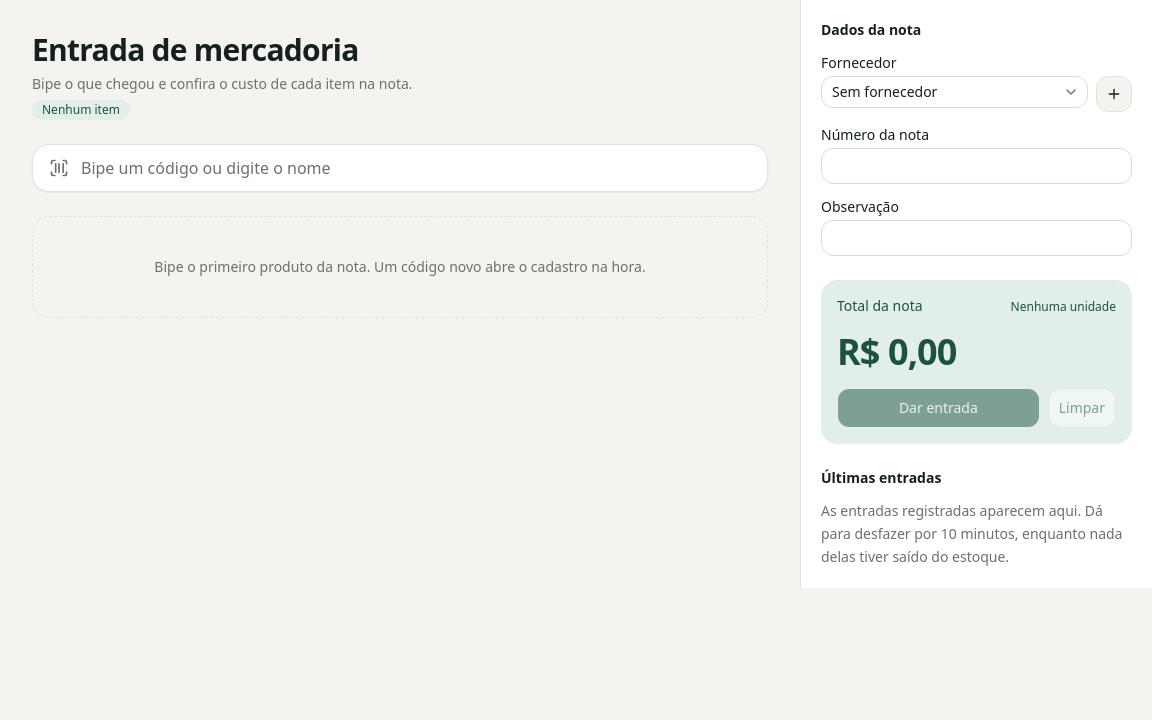
ReceivingScreen › registers a supplier without leaving the delivery and picks it
The image size is (1152, 720).
Click the button named "Novo fornecedor" at (1114,94), box [1096,76,1132,112]
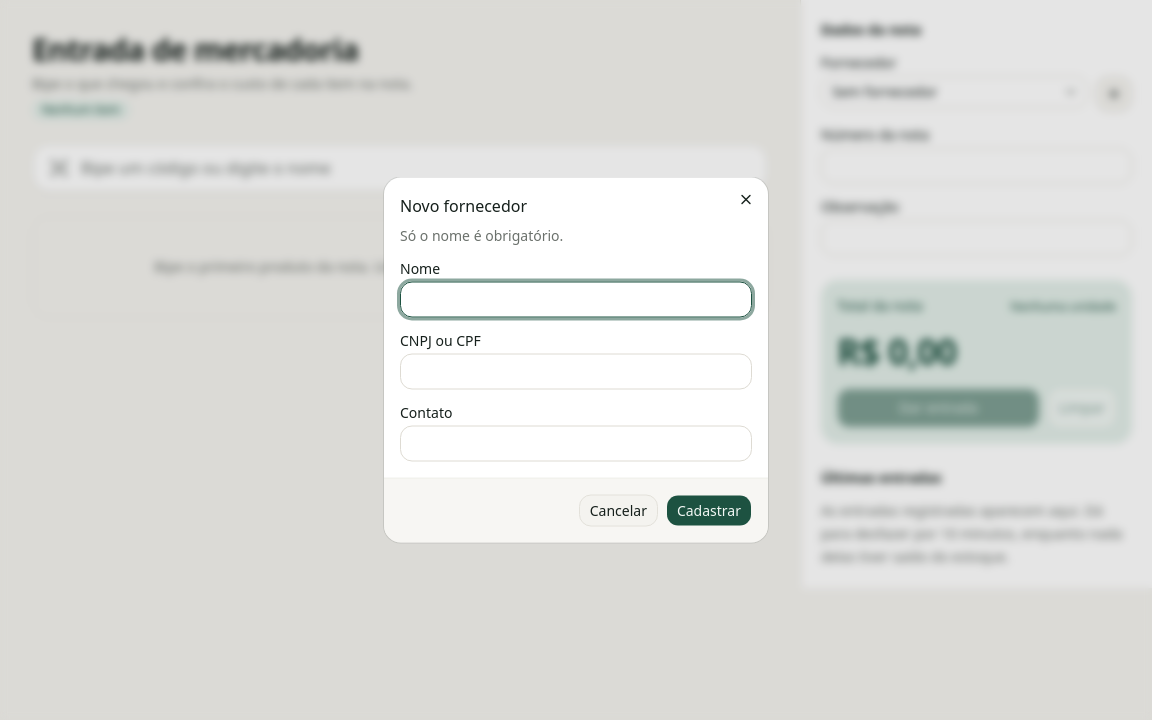
Type "Distribuidora Sol" into the field labelled "Nome" at (576,300), box [400,282,752,318]
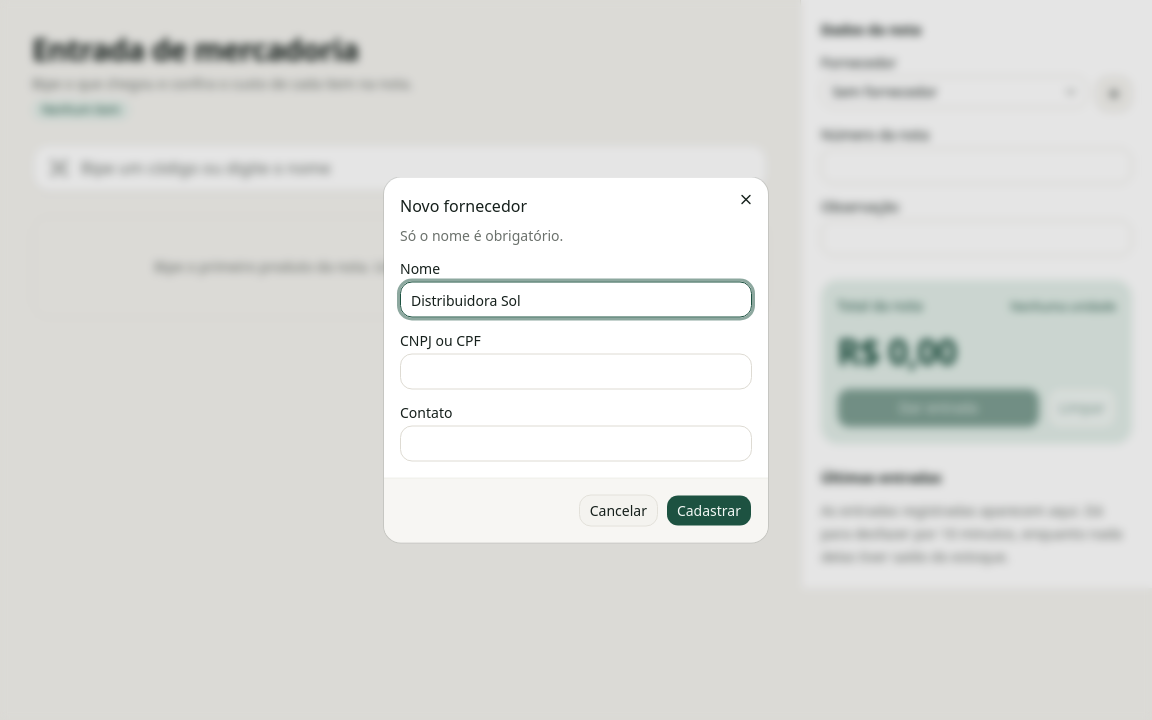
Type "12.345.678/0001-90" into the field labelled "CNPJ ou CPF" at (576,372), box [400,354,752,390]
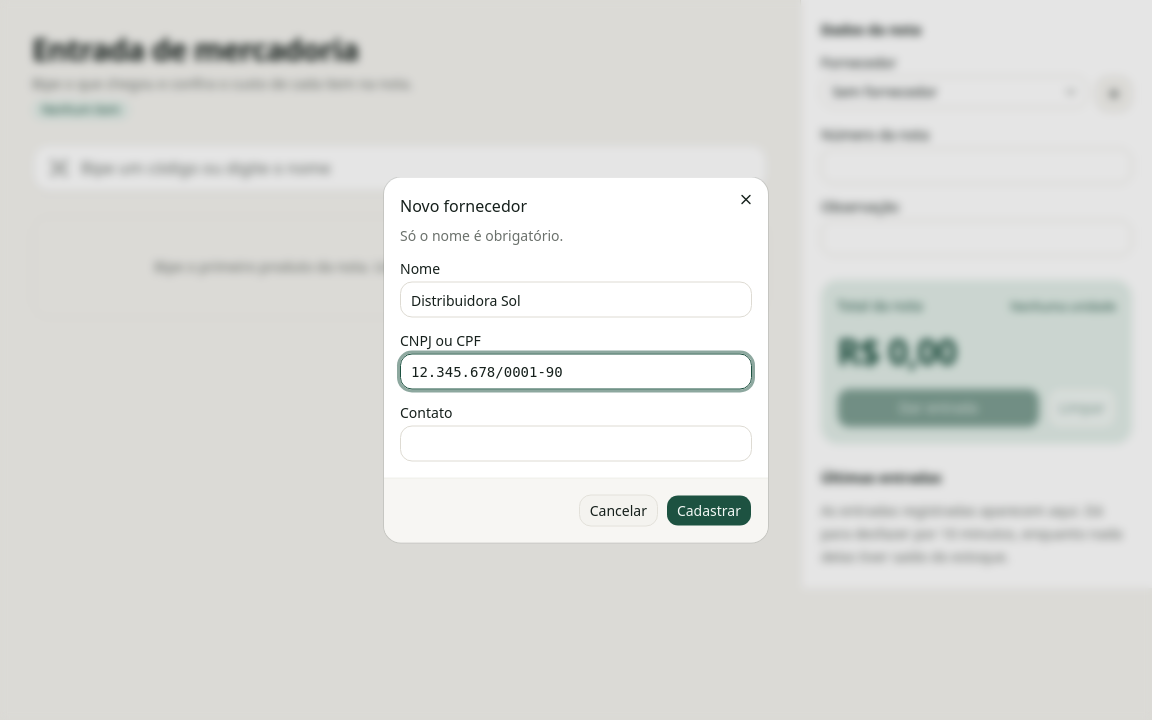
Click the button "Cadastrar" at (709,510), box [666,494,752,526]
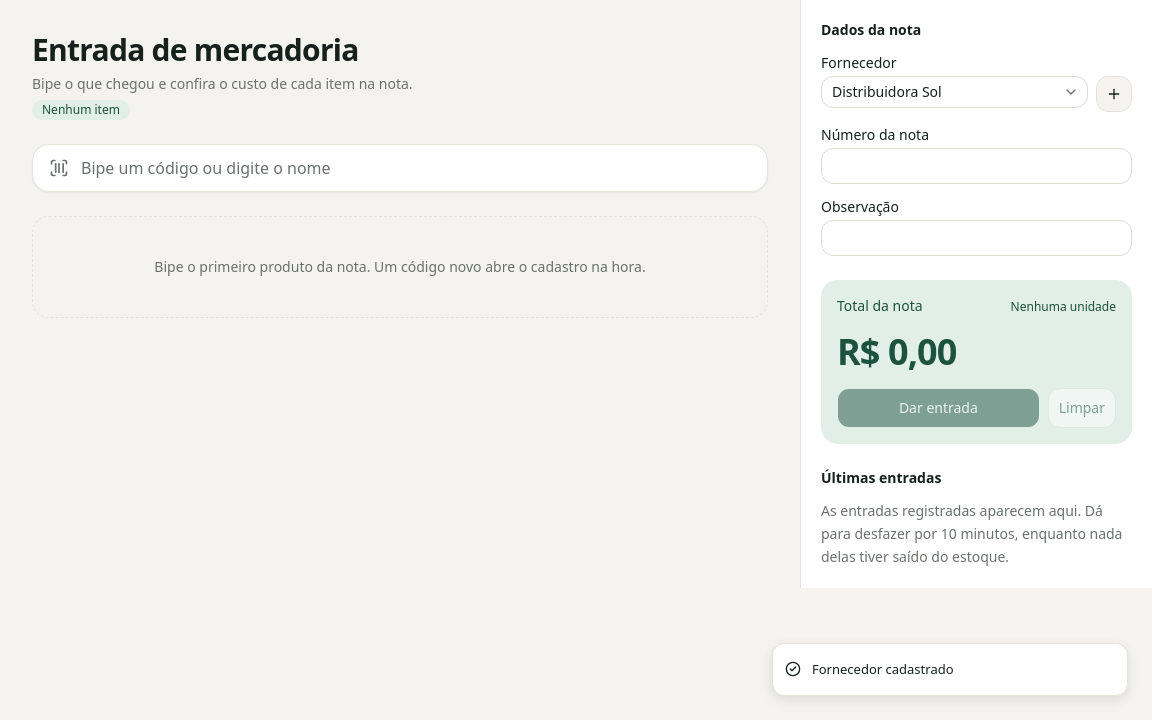
Expected: the dropdown named "Fornecedor" reads "Distribuidora Sol", [821,76,1088,108]
